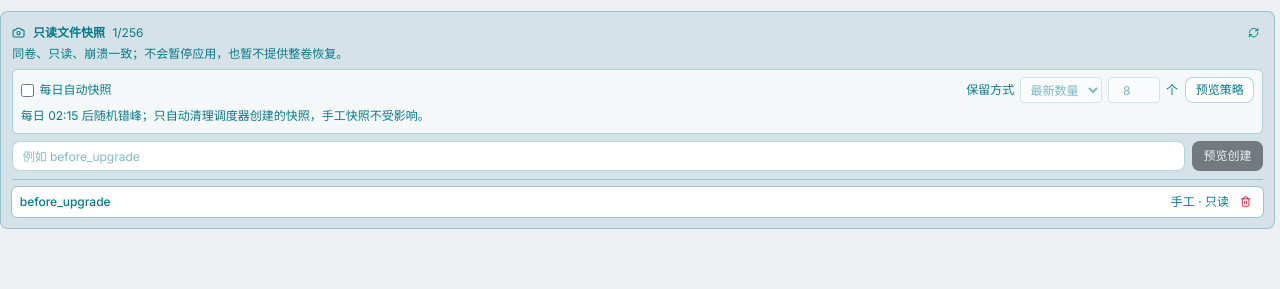
Test case: BtrfsSnapshotPanel › previews age retention without including manual snapshots
Expected: the text "每日自动快照" is shown, [21,81,111,99]
Click the checkbox. click: [27, 90]
box: [21,84,34,97]
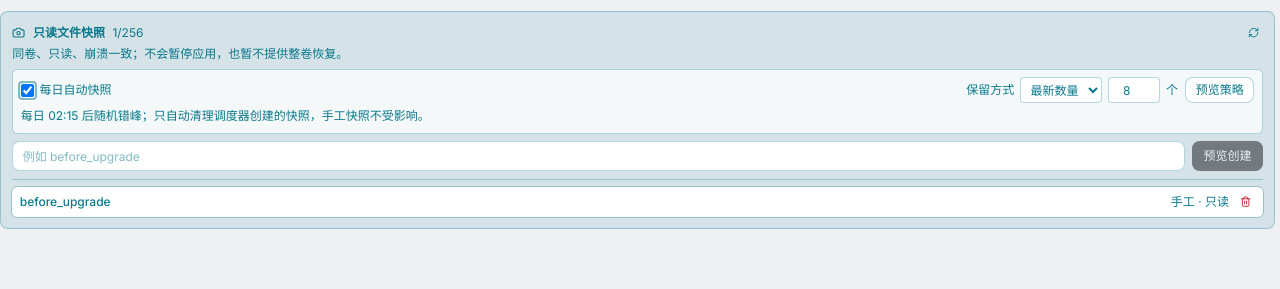
Select "最近天数" in the dropdown named "Photos 自动快照保留方式". click: [1061, 90]
box: [1020,77,1102,103]
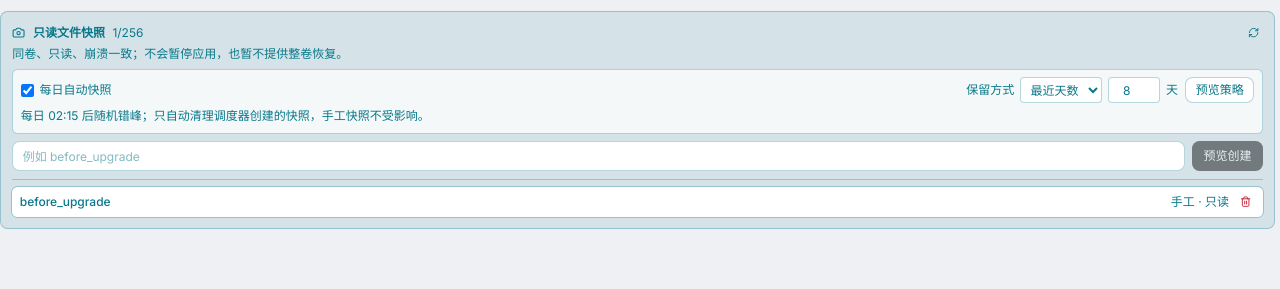
Replace the text in the number field named "Photos 自动快照保留值" with "30". click: [1134, 90]
box: [1108,77,1160,103]
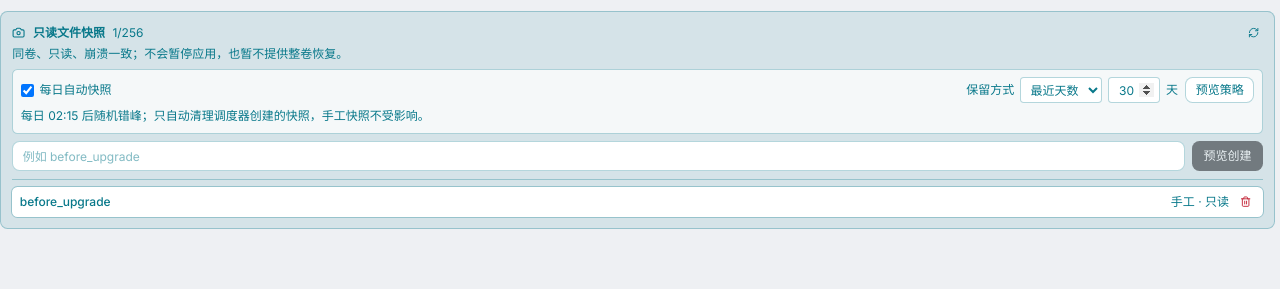
Click the button "预览策略". click: [1220, 90]
box: [1186,77,1254,103]
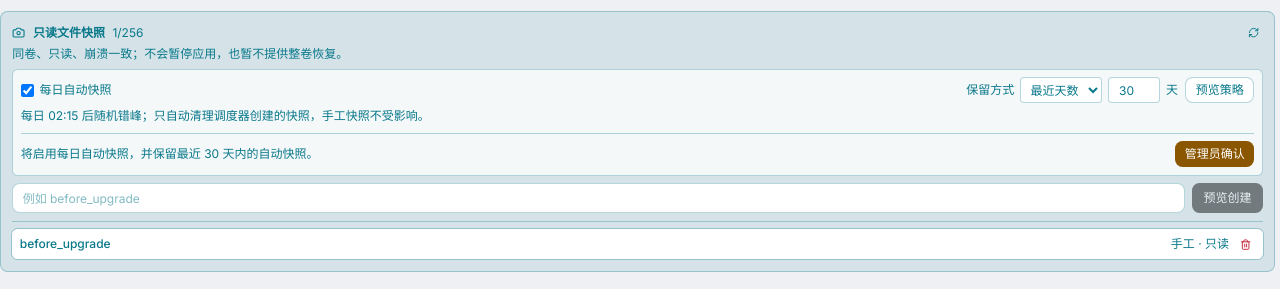
Expected: the text "每日 02:15 后随机错峰；只自动清理调度器创建的快照，手工快照不受影响。" is shown, [21,108,430,123]
Result: the text "保留最近 30 天内" is shown at [21,146,319,161]
